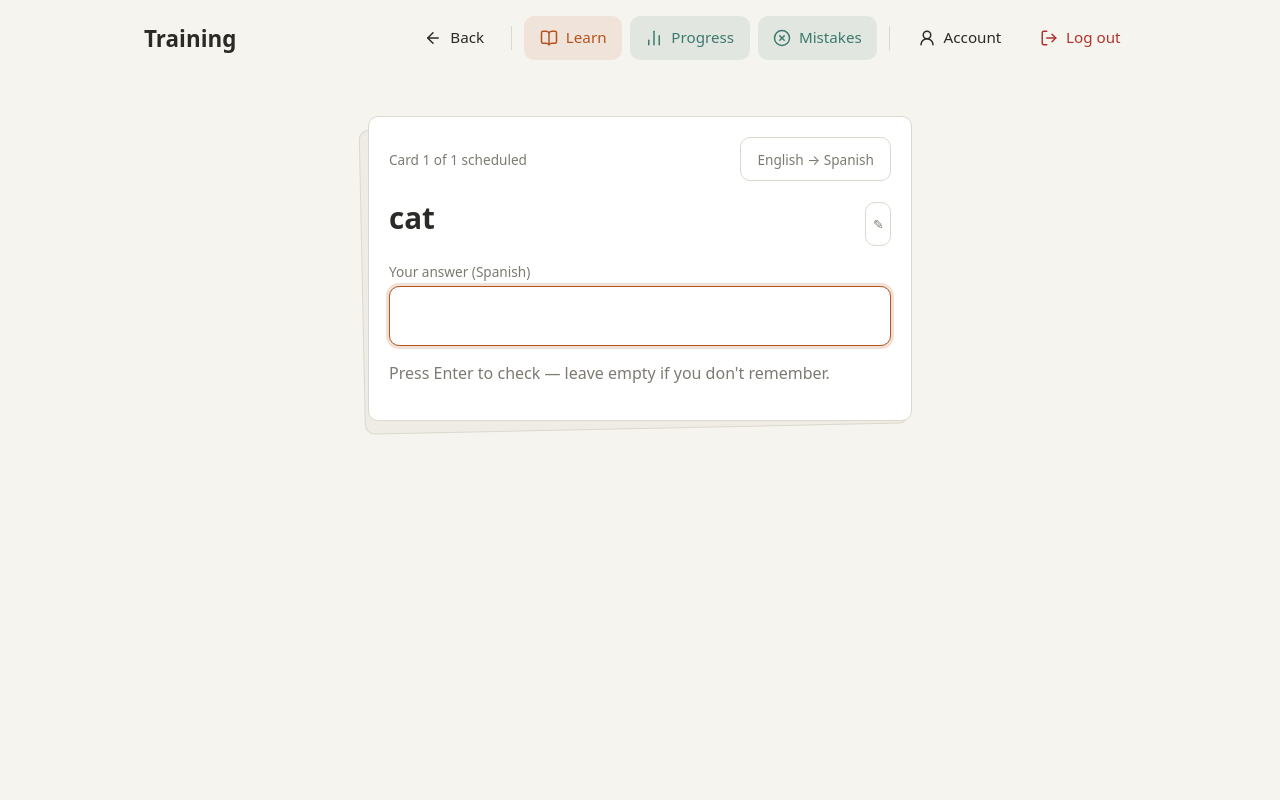
it: TrainPage Adopt › does not offer to add a suggestion that duplicates the primary
Type "perro" into the text box labelled "Your answer (Spanish)" at (640, 316), box x1=389 y1=286 x2=891 y2=346
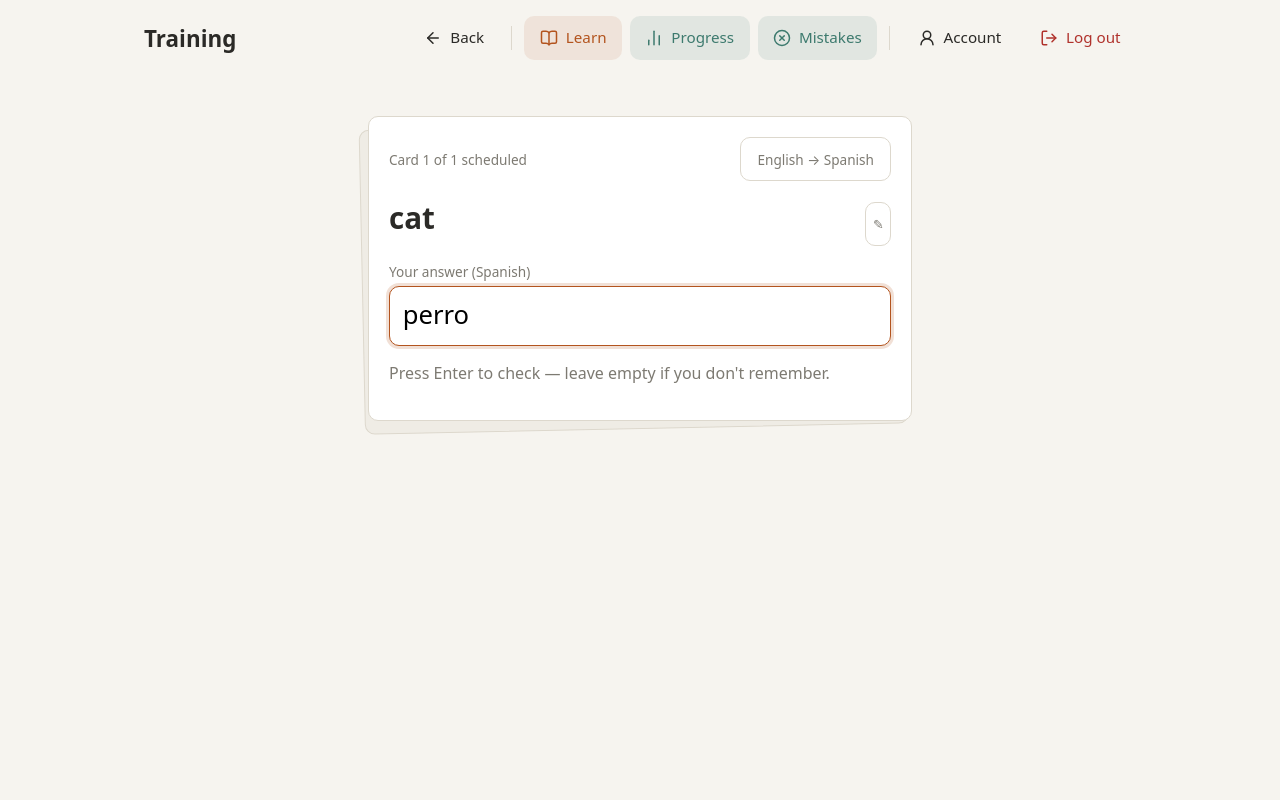
Submit the form labelled "Your answer", box x1=389 y1=262 x2=891 y2=400
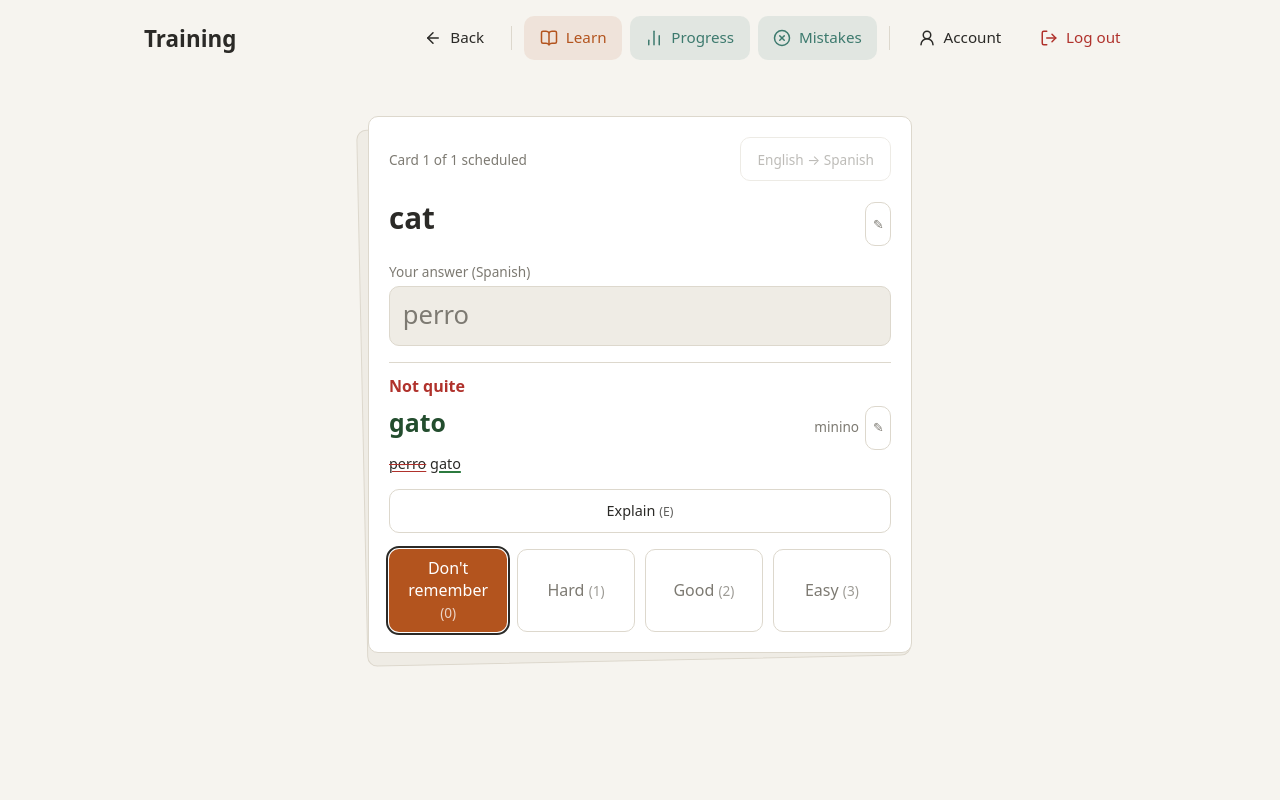
Click the button "Explain (E)" at (640, 511), box x1=389 y1=489 x2=891 y2=533
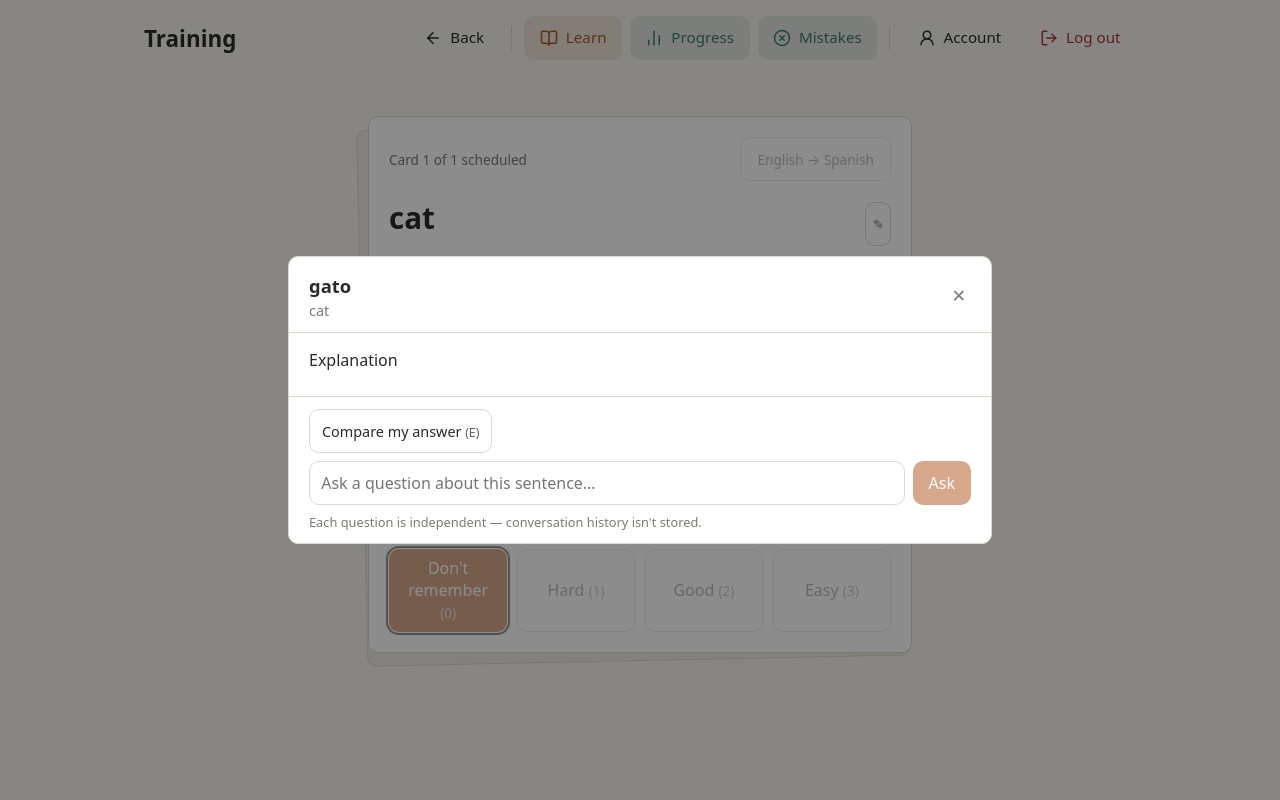
Expected: the text "Explanation" is shown, x1=309 y1=349 x2=398 y2=371
Click the button "Compare my answer (E)" at (401, 431), box x1=309 y1=409 x2=492 y2=453
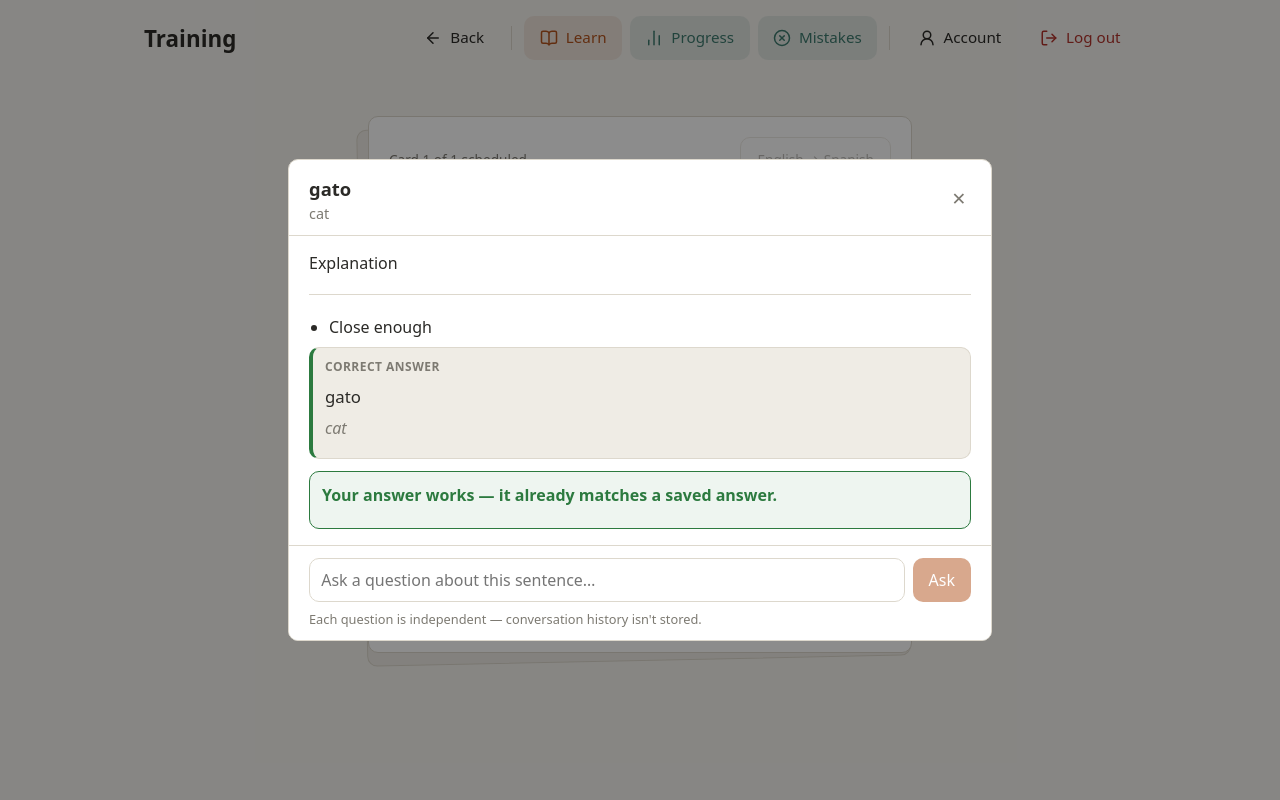
Expected: the text "Your answer works — it already matches a saved answer." is shown, x1=322 y1=484 x2=777 y2=506
